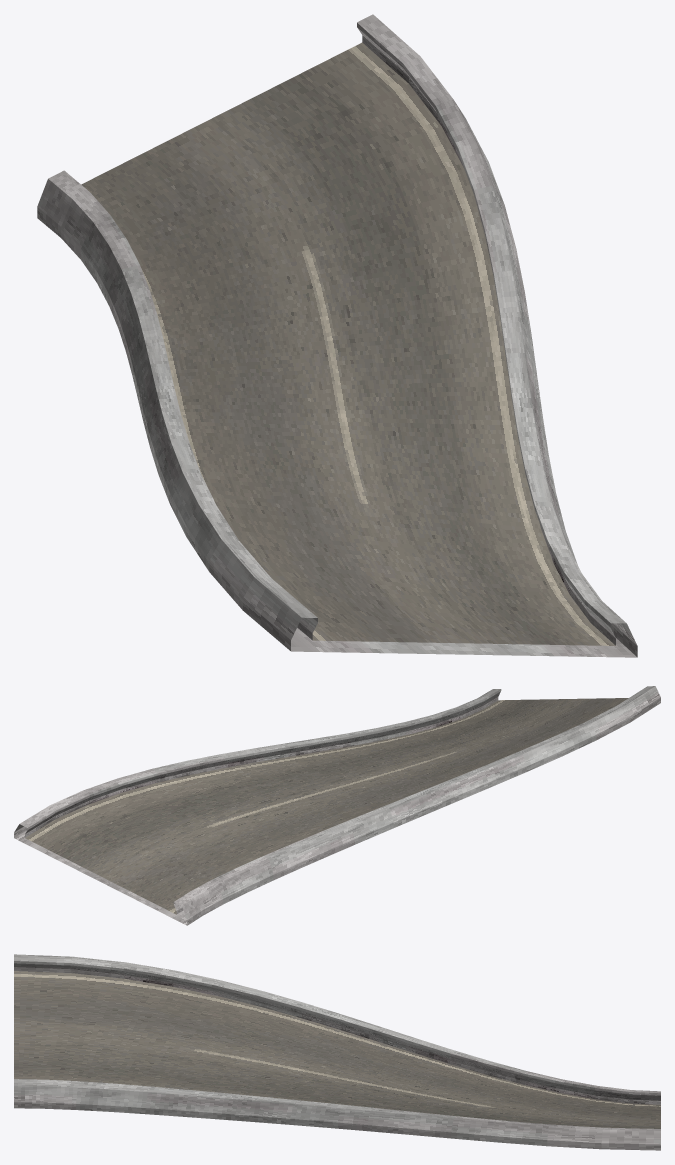
Rendered from road-Chicane-HalfBankedRight-HalfBankedLeft-Even-Right1-Size3.glb.
3 renders of one model, top to bottom at view 1: azimuth 30°, elevation 25°; view 2: azimuth 150°, elevation 25°; view 3: azimuth 270°, elevation 25°, orthographic. The views are drawn at different scales.
Visible parts, largest first — view 1: road-Chicane-HalfBankedRight-HalfBankedLeft-Even-Right1-Size; view 2: road-Chicane-HalfBankedRight-HalfBankedLeft-Even-Right1-Size; view 3: road-Chicane-HalfBankedRight-HalfBankedLeft-Even-Right1-Size.
Boxes of the visible parts, x1,y1,x2,y2 form: road-Chicane-HalfBankedRight-HalfBankedLeft-Even-Right1-Size: [37, 14, 637, 657]; road-Chicane-HalfBankedRight-HalfBankedLeft-Even-Right1-Size: [14, 686, 660, 925]; road-Chicane-HalfBankedRight-HalfBankedLeft-Even-Right1-Size: [14, 954, 660, 1150].
Size of the model in its own units: 2 by 0.3359 by 3.
2 materials, 2 textured.
